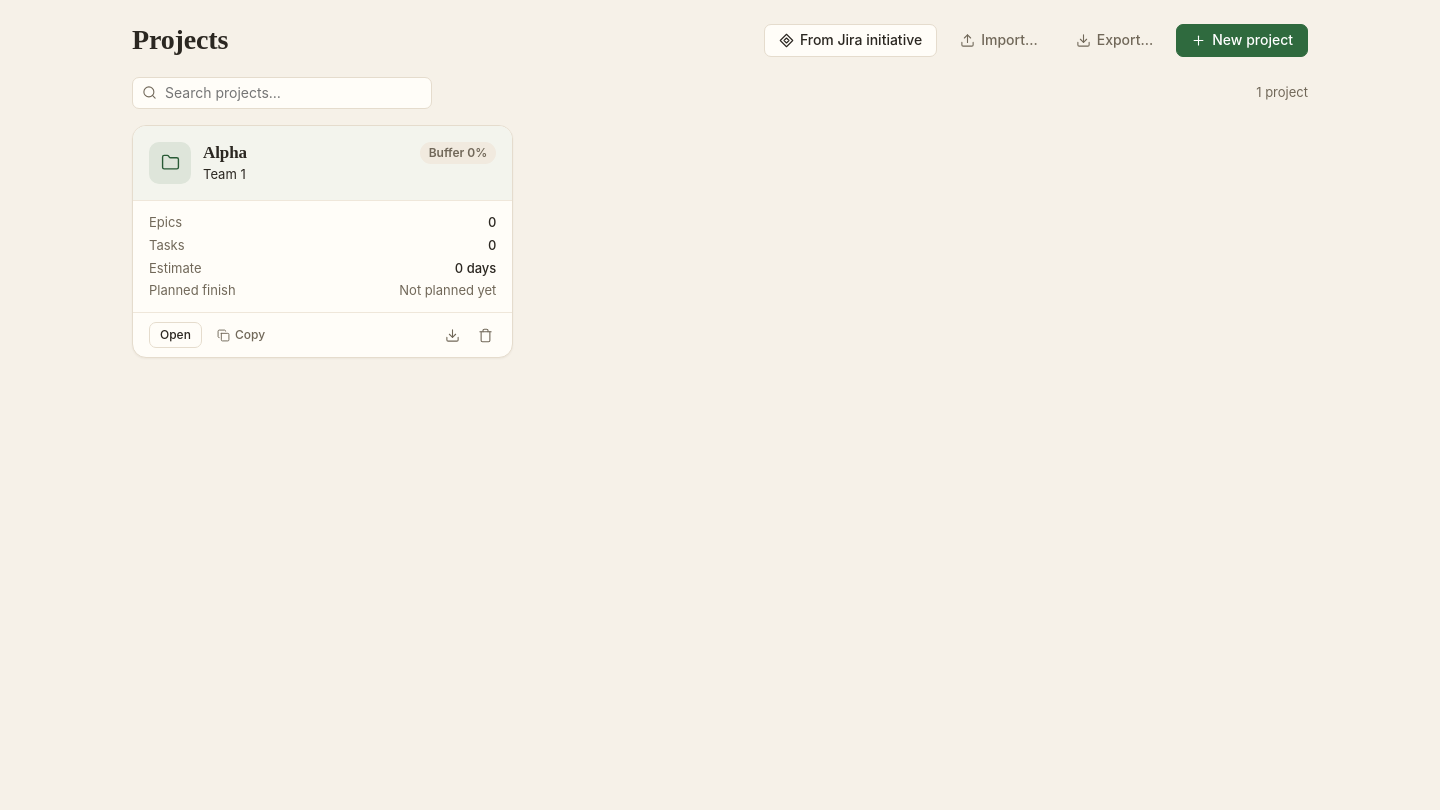
Test case: ProjectsDashboard › delete asks for confirmation and only removes on confirm
Cancel path: card stays.
Click the button named "Delete Alpha": (486, 335) [471,321,500,349]
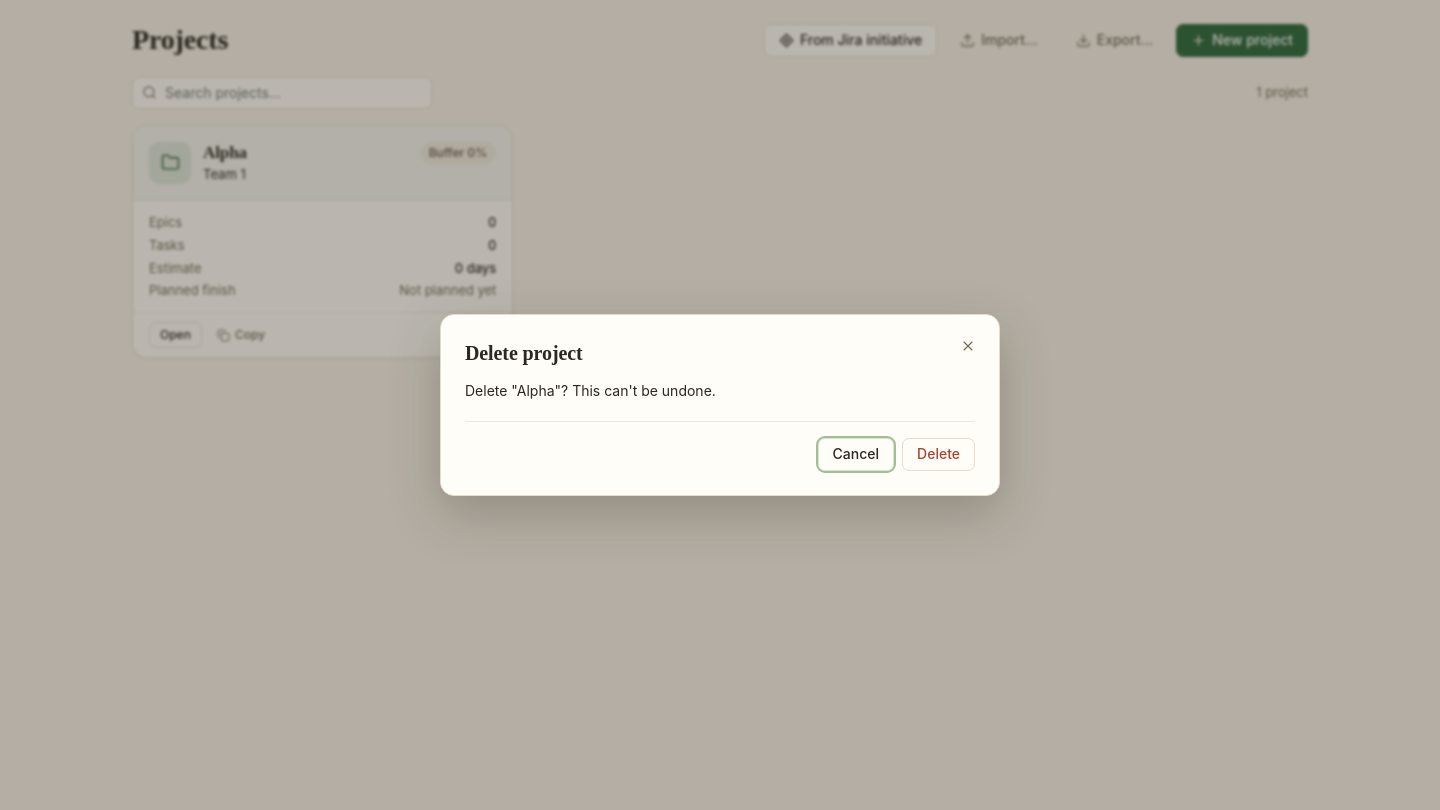
Click the button "Cancel": (856, 454) [818,438,894,471]
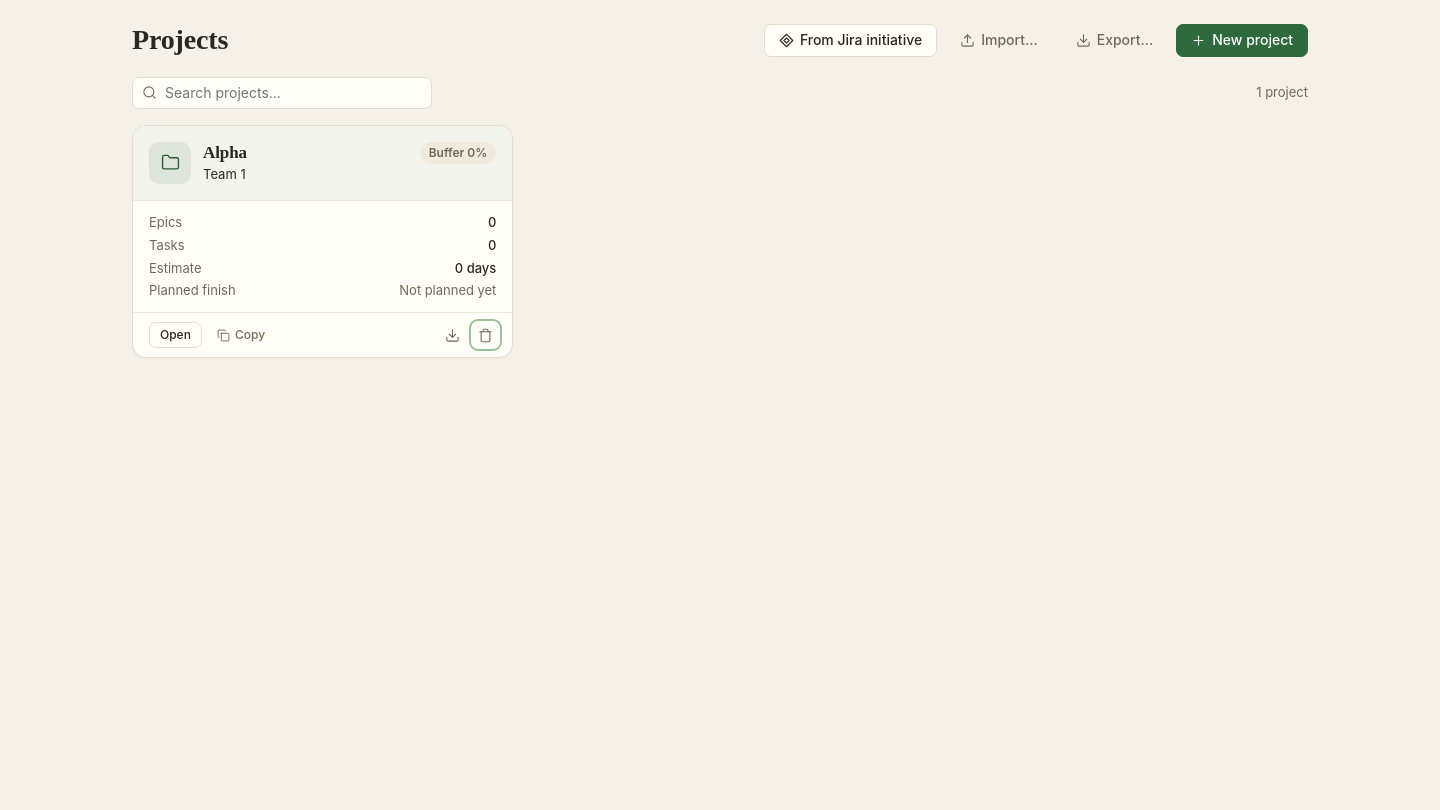
Confirm path: card removed.
Click the button named "Delete Alpha": (486, 335) [471,321,500,349]
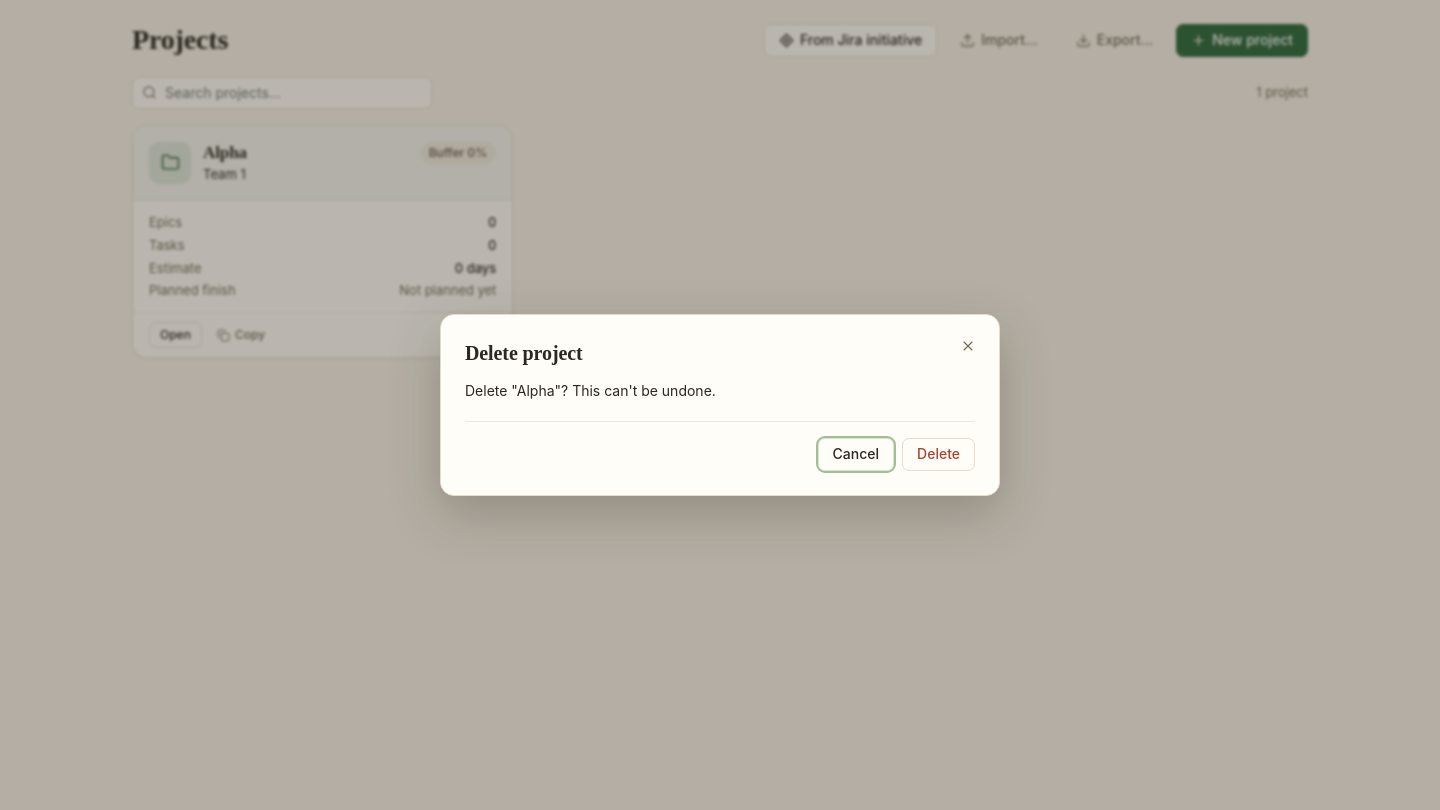
Click the button "Delete": (939, 454) [902,438,975,471]
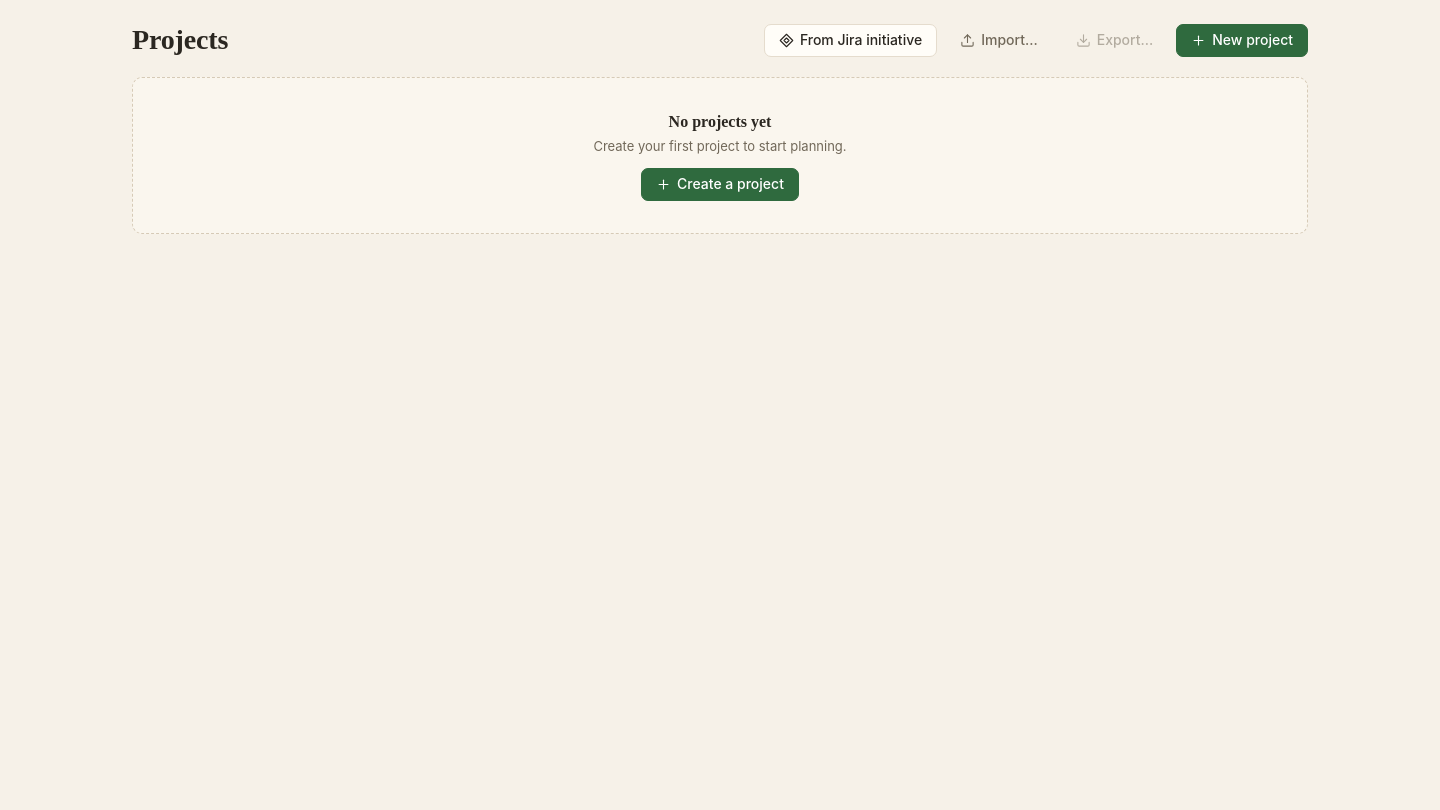
Now the text "No projects yet" is shown, box [669,113,771,130]
